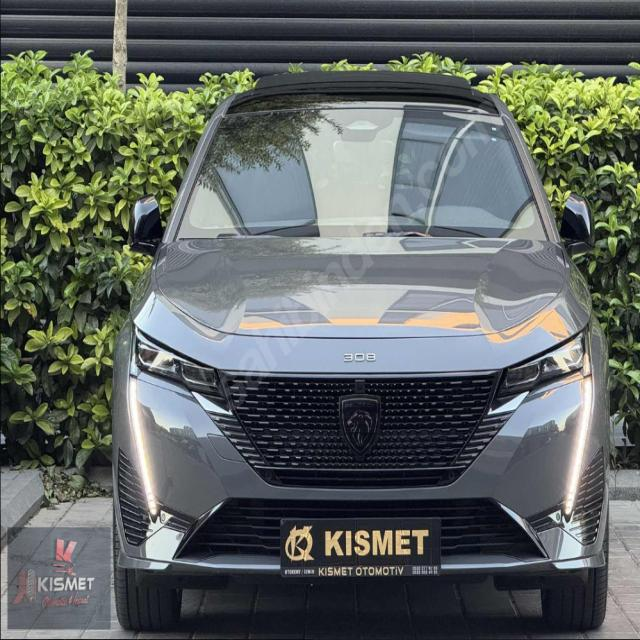pegout: (334, 388, 388, 461)
